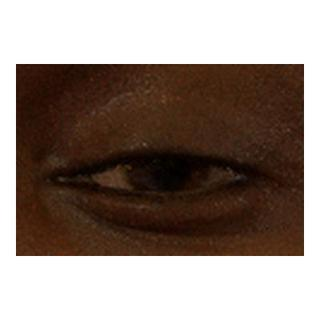pupil: (150, 150, 186, 186)
